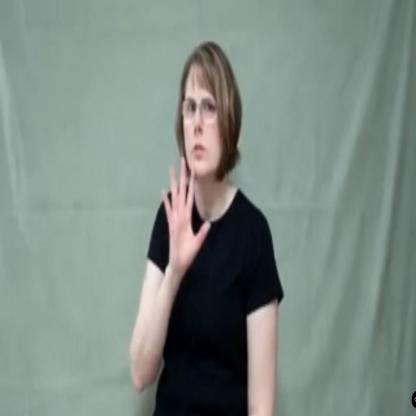Talk: (157, 42, 268, 277)
